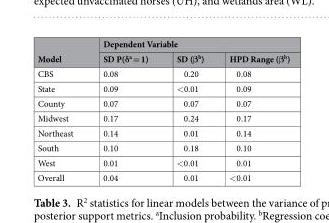table: (36, 37, 289, 183)
table column: (87, 37, 161, 183), (216, 37, 289, 183), (161, 37, 216, 183), (36, 37, 87, 183)
table column header: (36, 37, 289, 65)
table row: (36, 50, 289, 65), (36, 65, 289, 80), (36, 80, 289, 95), (36, 95, 289, 110), (36, 110, 289, 125), (36, 125, 289, 140), (36, 154, 289, 169), (36, 140, 289, 154), (36, 169, 289, 183), (36, 37, 289, 50)
table spanning cell: (87, 37, 289, 50), (36, 37, 87, 65)
